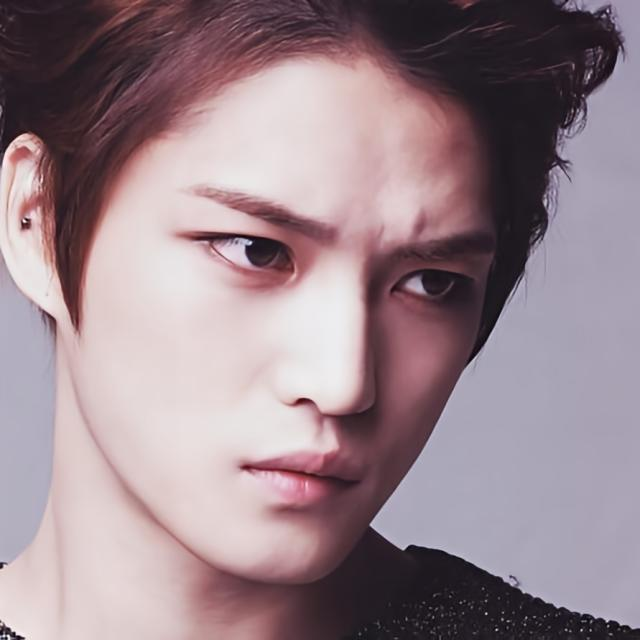anger: (80, 50, 493, 584)
